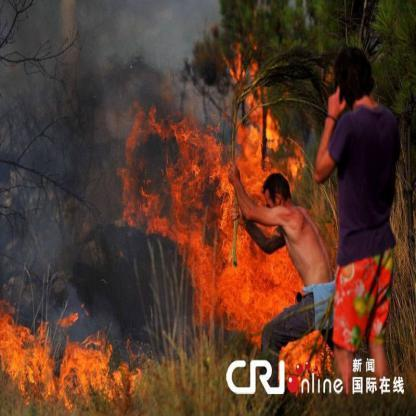fire: (122, 40, 344, 384), (0, 304, 139, 406)
